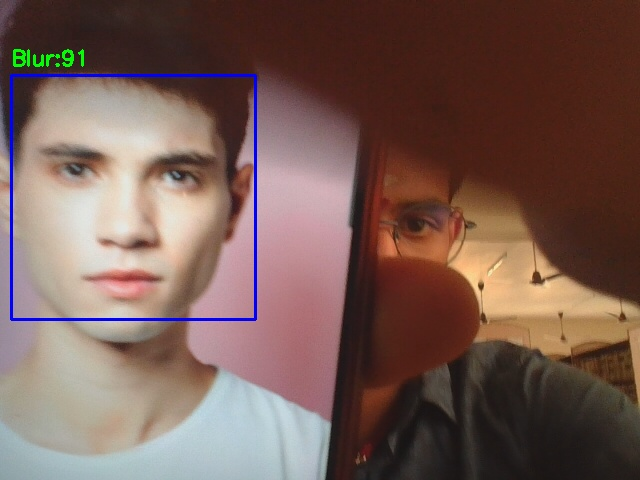fake: (11, 75, 255, 319)
